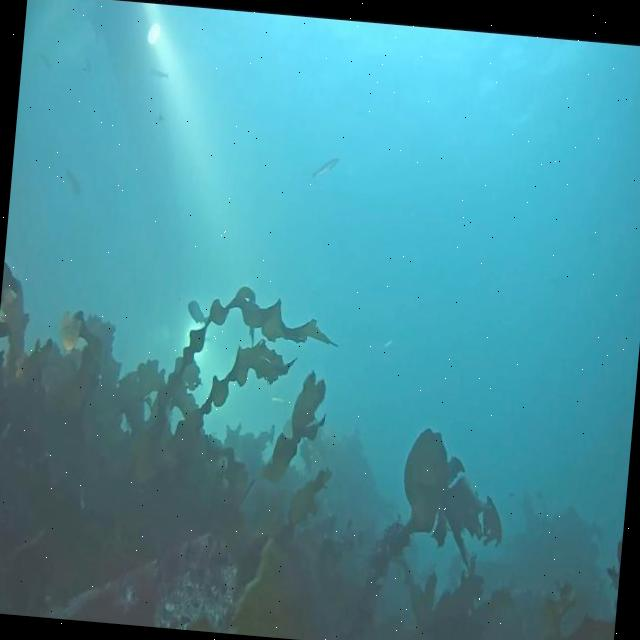fish: (60, 166, 84, 200), (186, 298, 212, 328), (310, 156, 340, 180), (146, 64, 170, 79), (270, 394, 289, 406)
